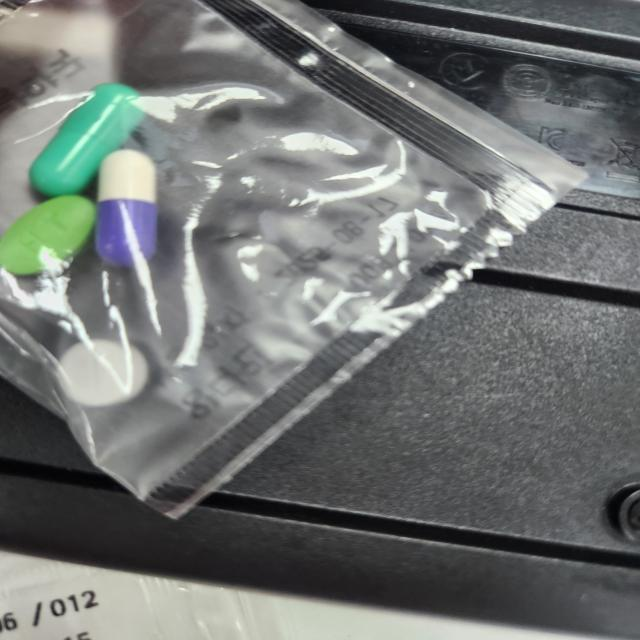러키펜정: (58, 338, 142, 408)
씨엠지세파클러캡슐: (94, 150, 160, 271)
에르도캡슐: (29, 84, 145, 199)
휴티렌정: (0, 196, 96, 278)
